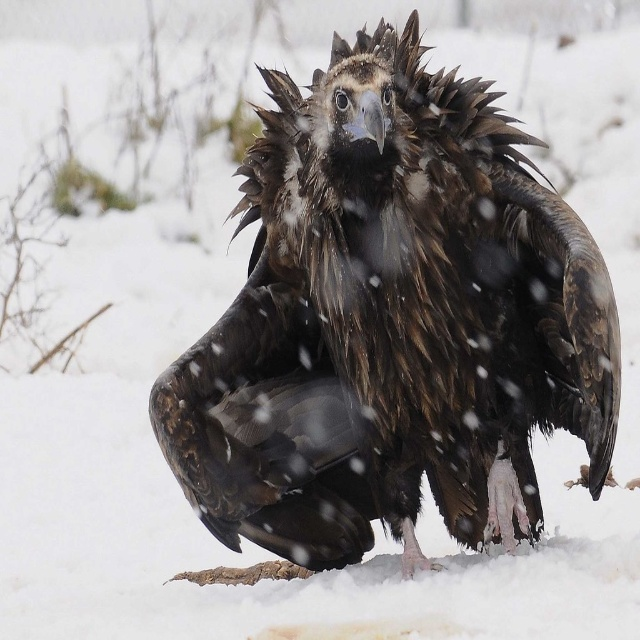Eagle: (147, 9, 622, 577)
